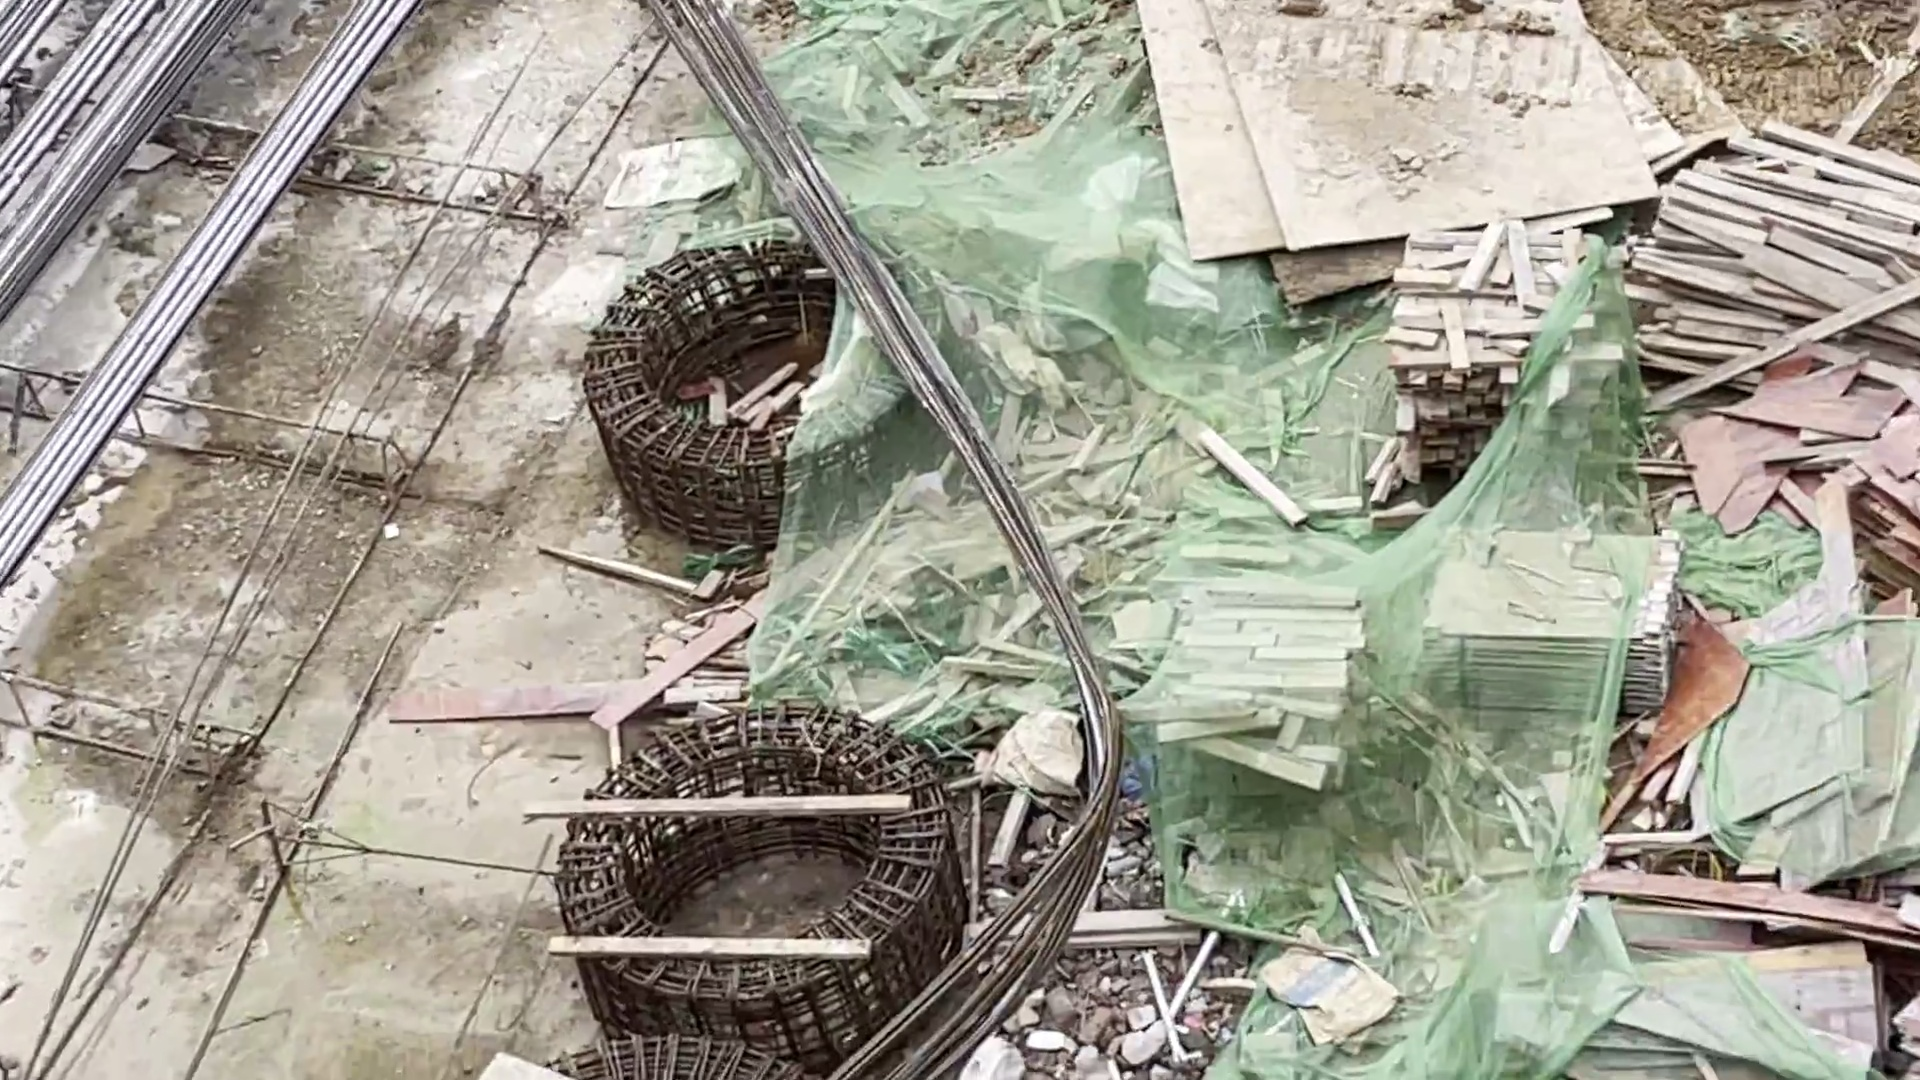board: (1433, 526, 1665, 694)
rebar: (647, 5, 1120, 781), (1, 7, 410, 591), (837, 775, 1117, 1077)
wood: (1167, 568, 1360, 808), (1390, 233, 1555, 454)
